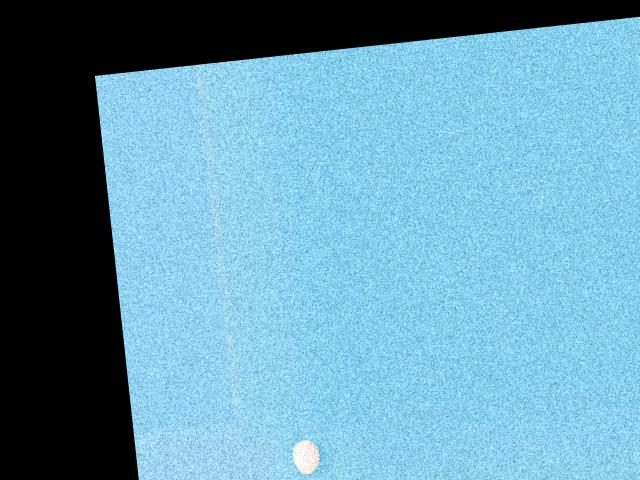egg: (291, 438, 321, 476)
